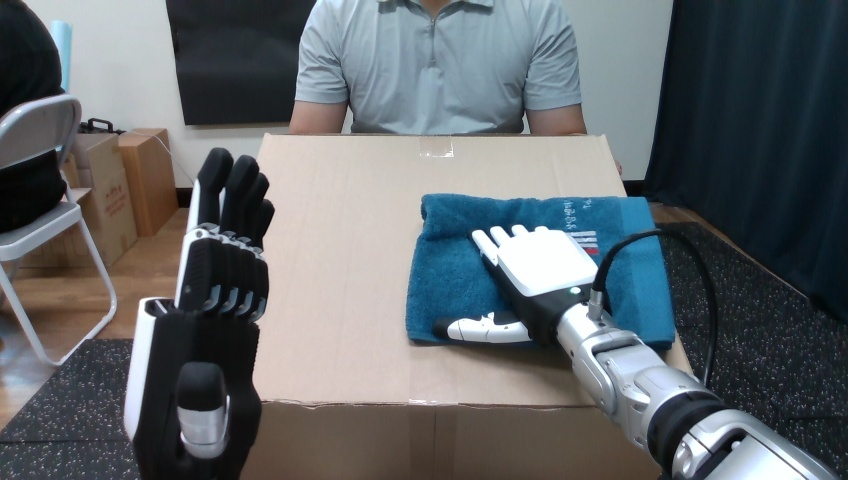left robot hand: (124, 148, 273, 478), (665, 222, 847, 479)
